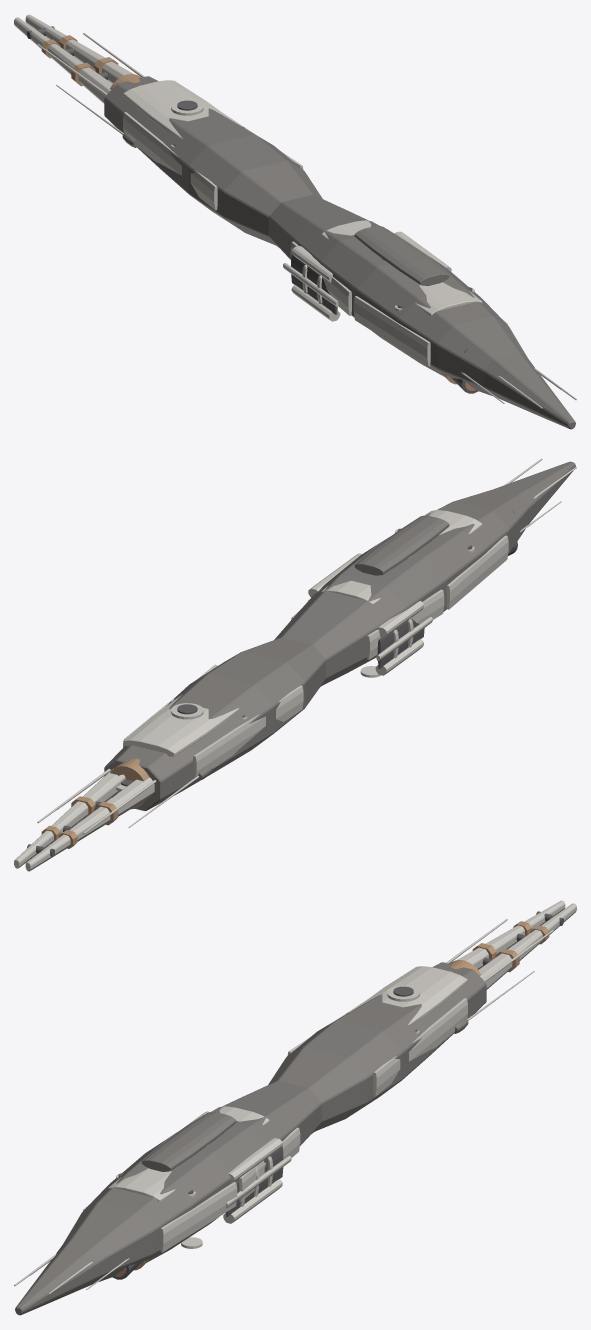
The model's file is titan_py.glb.
3 views of the same model, one above another, from view 1: azimuth 30°, elevation 25°; view 2: azimuth 150°, elevation 25°; view 3: azimuth 330°, elevation 25° (orthographic).
Visible parts, largest first — view 1: hull, deck_step, deck_fore, strip_l_2, strip_l_0, deck_aft, spear_l, spear_r, hangar_l_door, strip_l_1; view 2: hull, deck_fore, deck_step, strip_l_0, spear_l, spear_r, strip_l_2, deck_aft, strip_l_1, hangar_l_door, hangar_l_lip_0, throat_ring; view 3: hull, deck_step, deck_fore, strip_r_0, strip_r_2, deck_aft, spear_r, spear_l, strip_r_1, hangar_r_lip_0, hangar_r_door, hangar_r_lip_1.
Part boxes in pixels (left/top/right/bottom): hull: left=104, top=76, right=575, bottom=429; deck_step: left=354, top=226, right=449, bottom=285; deck_fore: left=123, top=80, right=236, bottom=138; strip_l_2: left=353, top=296, right=430, bottom=366; strip_l_0: left=123, top=112, right=217, bottom=210; deck_aft: left=321, top=220, right=482, bottom=316; spear_l: left=14, top=17, right=112, bottom=103; spear_r: left=25, top=14, right=133, bottom=83; hangar_l_door: left=291, top=254, right=337, bottom=314; strip_l_1: left=290, top=241, right=351, bottom=315; hull: left=104, top=461, right=575, bottom=810; deck_fore: left=123, top=694, right=238, bottom=756; deck_step: left=354, top=515, right=449, bottom=575; strip_l_0: left=193, top=685, right=303, bottom=778; spear_l: left=25, top=777, right=154, bottom=871; spear_r: left=14, top=768, right=125, bottom=868; strip_l_2: left=446, top=535, right=508, bottom=609; deck_aft: left=321, top=510, right=482, bottom=605; strip_l_1: left=366, top=589, right=444, bottom=659; hangar_l_door: left=377, top=619, right=424, bottom=668; hangar_l_lip_0: left=377, top=601, right=423, bottom=637; throat_ring: left=110, top=758, right=149, bottom=809; hull: left=15, top=962, right=486, bottom=1315; deck_step: left=141, top=1112, right=236, bottom=1171; deck_fore: left=354, top=966, right=467, bottom=1024; strip_r_0: left=373, top=998, right=467, bottom=1096; strip_r_2: left=160, top=1182, right=237, bottom=1252; deck_aft: left=108, top=1106, right=269, bottom=1202; spear_r: left=478, top=903, right=576, bottom=989; spear_l: left=457, top=900, right=565, bottom=969; strip_r_1: left=239, top=1127, right=300, bottom=1201; hangar_r_lip_0: left=228, top=1138, right=282, bottom=1183; hangar_r_door: left=226, top=1146, right=283, bottom=1216; hangar_r_lip_1: left=223, top=1179, right=282, bottom=1223.
Bounding box in the file's own units: 102 × 88 × 1000.
